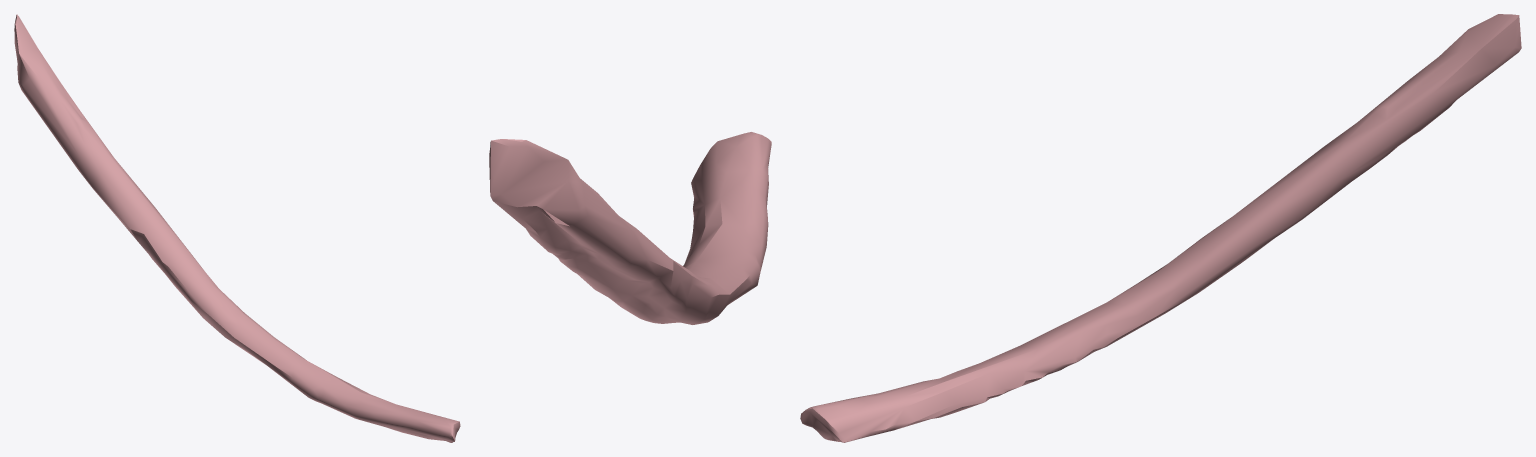
Rendered from fma46442_fj1465.glb.
3 renders of one model, left to right at view 1: azimuth 30°, elevation 25°; view 2: azimuth 150°, elevation 25°; view 3: azimuth 270°, elevation 25°, orthographic. The views are drawn at different scales.
Parts seen in each view (by area): view 1: FMA46442_FJ1465; view 2: FMA46442_FJ1465; view 3: FMA46442_FJ1465.
Boxes of the visible parts, left/top/right/bottom form: FMA46442_FJ1465: left=14, top=14, right=460, bottom=442; FMA46442_FJ1465: left=489, top=132, right=771, bottom=324; FMA46442_FJ1465: left=800, top=14, right=1521, bottom=442.
Bounding box in the file's own units: 0.0253 × 0.0337 × 0.0662.
